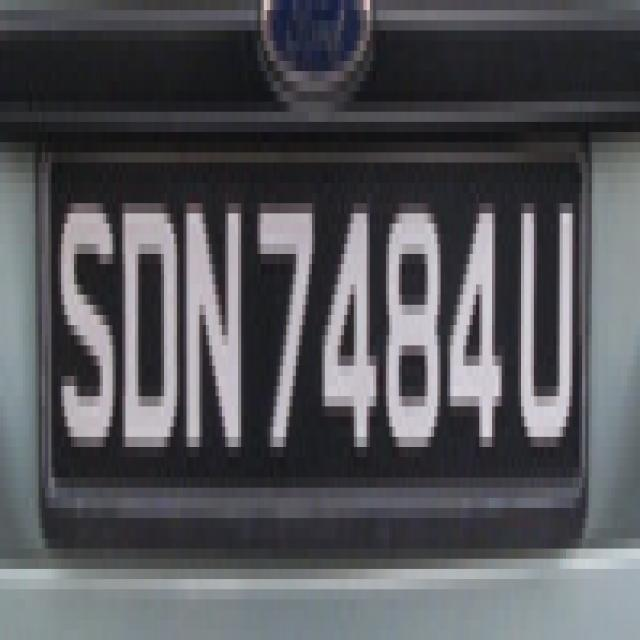4: (319, 180, 383, 470), (448, 176, 507, 466)
7: (252, 176, 319, 469)
8: (382, 180, 448, 477)
D: (118, 176, 181, 474)
N: (180, 174, 248, 480)
S: (54, 174, 118, 463)
U: (512, 180, 580, 466)
